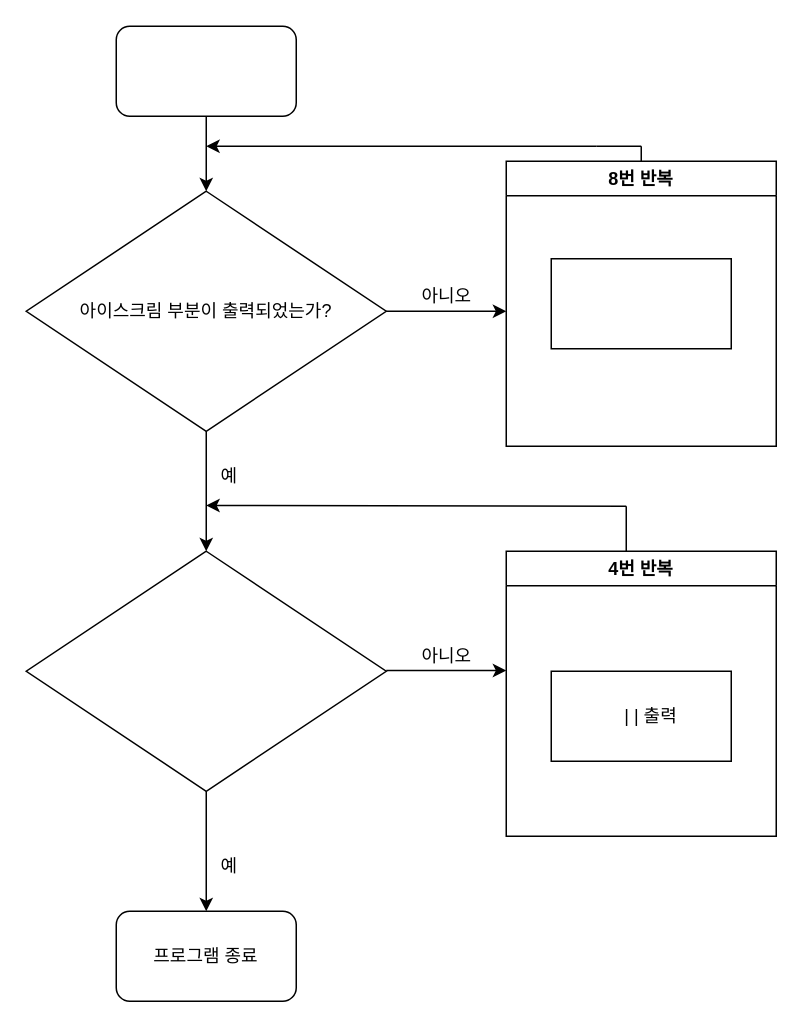
Image size: 803x1028. Some labels were removed from this diagram. The shapes that lost their labels are listed below. From the top down, each one's centre as x and y in pixels, then its label:
the point at 205,70: 프로그램 시작
the point at 640,303: *********** 출력
the point at 205,670: 스틱 부분이 출력되었는가?
